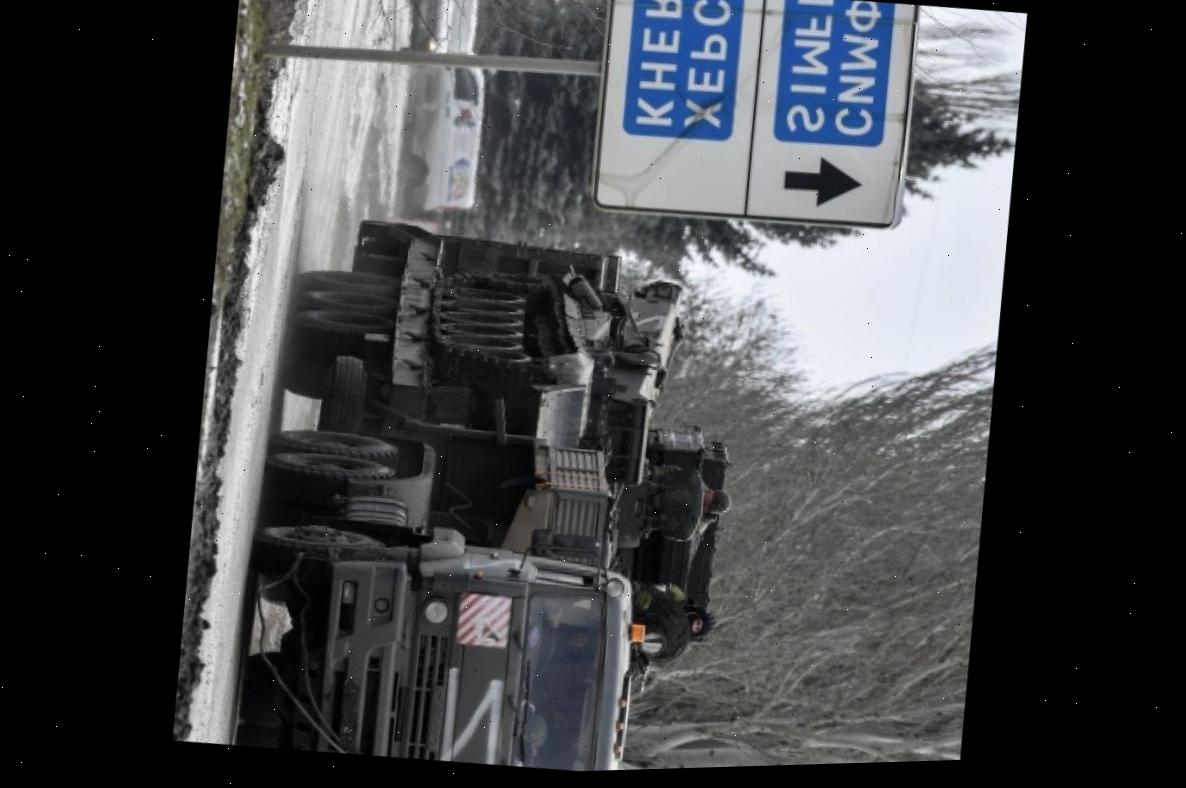car: (385, 61, 484, 214), (402, 0, 484, 53)
truck: (221, 179, 758, 782)
